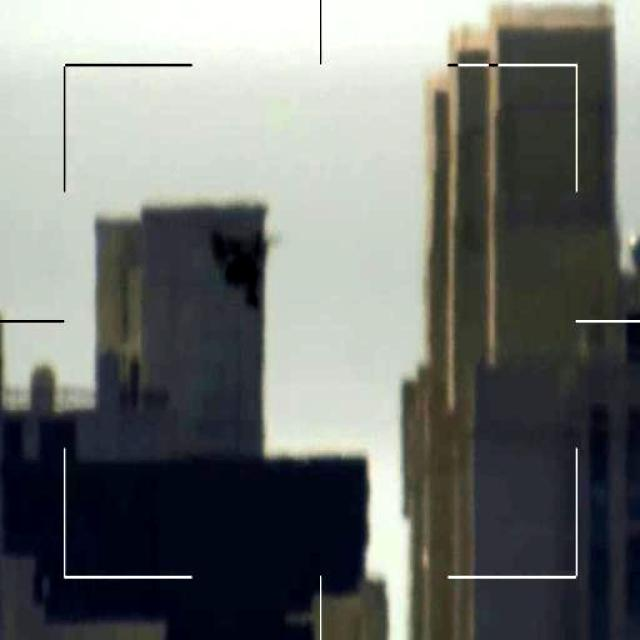bird: (208, 221, 270, 306)
